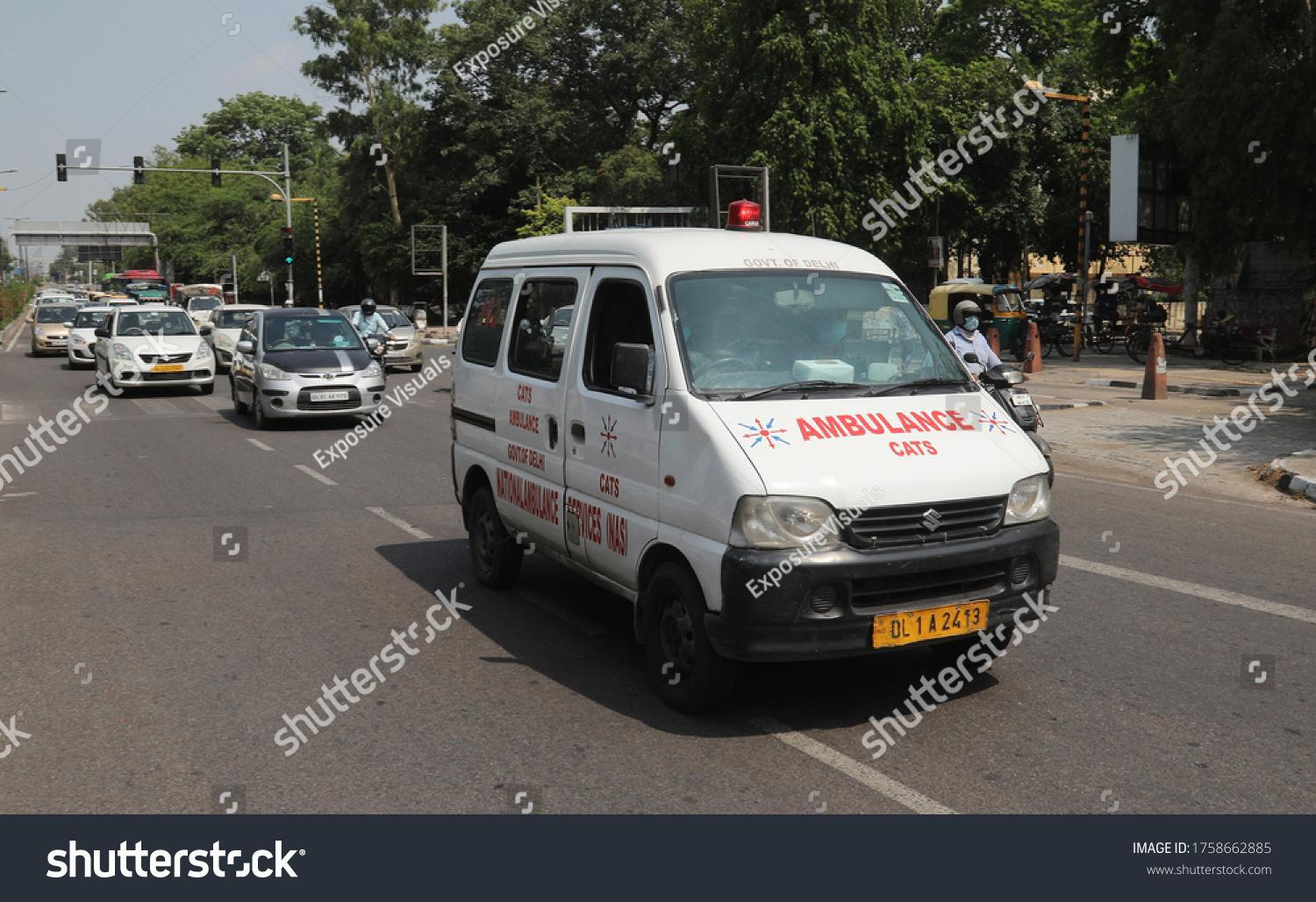Ambulance: (788, 405, 986, 451)
